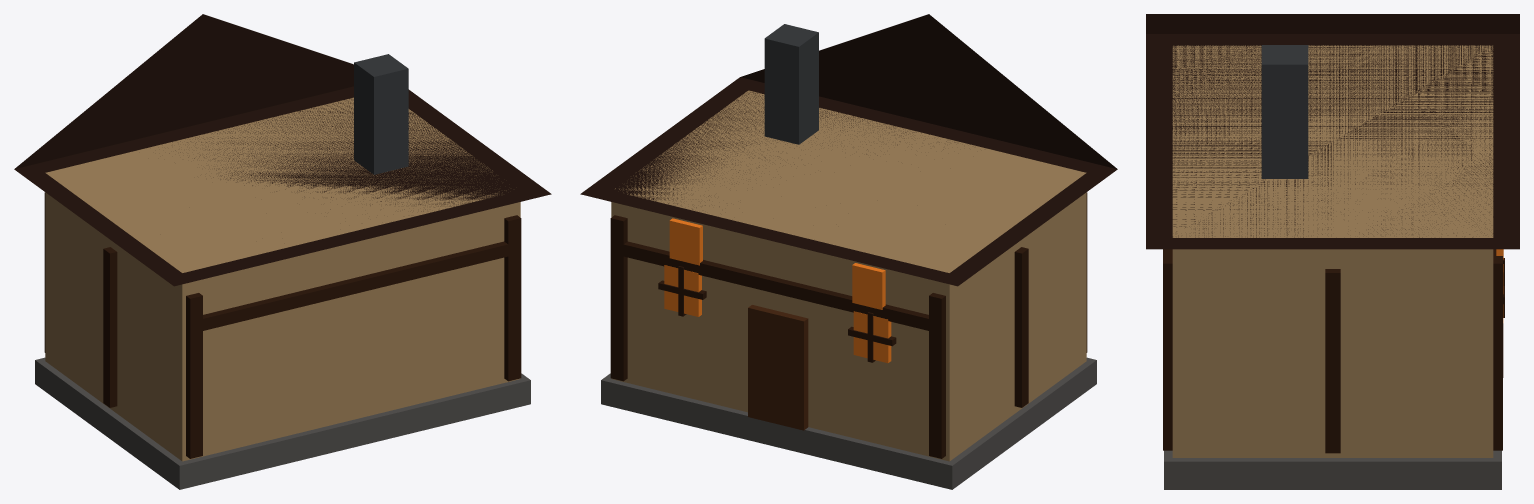
Rendered from House_B.obj.
The picture shows the model from 3 angles, left to right: view 1: azimuth 30°, elevation 25°; view 2: azimuth 150°, elevation 25°; view 3: azimuth 270°, elevation 25°; orthographic projection. The views are drawn at different scales.
Visible parts, largest first — view 1: PlasterWalls, GabledRoof, StoneFoundation, Chimney, TimberBeam_1.7, TimberPost_2.2_1.7, TimberPost_-2.2_1.7, SidePost_-2.4; view 2: PlasterWalls, GabledRoof, StoneFoundation, Door, Chimney, TimberBeam_-1.7, TimberPost_2.2_-1.7, TimberPost_-2.2_-1.7, SidePost_-2.4, UpperWindow_-1.3, UpperWindow_1.3, Window_L (+1 smaller); view 3: PlasterWalls, GabledRoof, StoneFoundation, Chimney, SidePost_2.4, TimberPost_2.2_-1.7, TimberPost_2.2_1.7.
Boxes of the visible parts, bbox=[...] form: PlasterWalls: bbox=[45, 97, 520, 461]; GabledRoof: bbox=[14, 14, 551, 286]; StoneFoundation: bbox=[35, 357, 530, 489]; Chimney: bbox=[354, 54, 408, 174]; TimberBeam_1.7: bbox=[200, 241, 511, 331]; TimberPost_2.2_1.7: bbox=[504, 215, 521, 381]; TimberPost_-2.2_1.7: bbox=[186, 293, 202, 458]; SidePost_-2.4: bbox=[103, 247, 117, 407]; PlasterWalls: bbox=[611, 90, 1086, 461]; GabledRoof: bbox=[580, 14, 1117, 286]; StoneFoundation: bbox=[601, 357, 1096, 489]; Door: bbox=[748, 305, 808, 430]; Chimney: bbox=[764, 24, 818, 144]; TimberBeam_-1.7: bbox=[621, 241, 928, 330]; TimberPost_2.2_-1.7: bbox=[610, 215, 627, 381]; TimberPost_-2.2_-1.7: bbox=[929, 293, 945, 458]; SidePost_-2.4: bbox=[1014, 247, 1028, 407]; UpperWindow_-1.3: bbox=[852, 263, 885, 309]; UpperWindow_1.3: bbox=[669, 218, 702, 265]; Window_L: bbox=[853, 311, 891, 363]; PlasterWalls: bbox=[1172, 45, 1493, 457]; GabledRoof: bbox=[1146, 14, 1519, 249]; StoneFoundation: bbox=[1164, 450, 1501, 489]; Chimney: bbox=[1261, 45, 1308, 178]; SidePost_2.4: bbox=[1325, 269, 1340, 453]; TimberPost_2.2_-1.7: bbox=[1493, 256, 1502, 450]; TimberPost_2.2_1.7: bbox=[1163, 256, 1172, 450].
Size of the model in its own units: 5.25 by 4.31 by 3.85.
